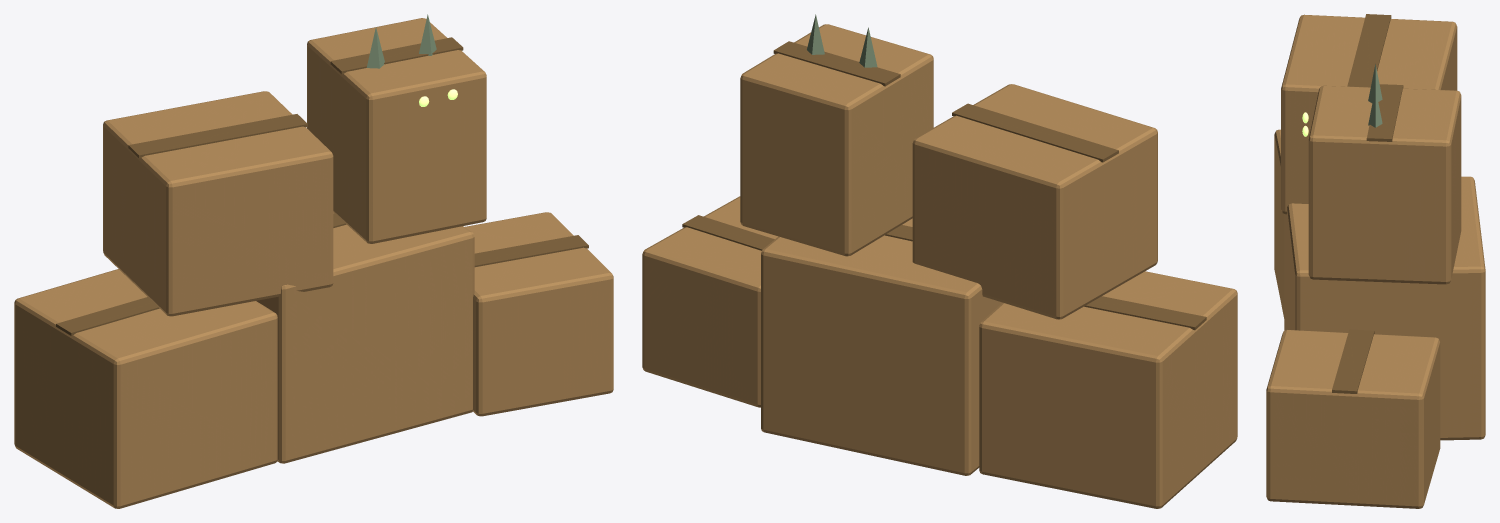
Rendered from zc_cardboard_barricade.mobile-high.glb.
3 renders of one model, left to right at view 1: azimuth 30°, elevation 25°; view 2: azimuth 150°, elevation 25°; view 3: azimuth 270°, elevation 25°, orthographic. The views are drawn at different scales.
Parts seen in each view (by area): view 1: zc_cardboard_barricade; view 2: zc_cardboard_barricade; view 3: zc_cardboard_barricade.
Part boxes in pixels (x1,y1,x2,y2): zc_cardboard_barricade: (14, 14, 613, 508); zc_cardboard_barricade: (642, 14, 1237, 508); zc_cardboard_barricade: (1266, 14, 1485, 508).
Bounding box in the file's own units: 1.82 × 1.23 × 0.6901.
Materials: 2 (1 with a texture image).
